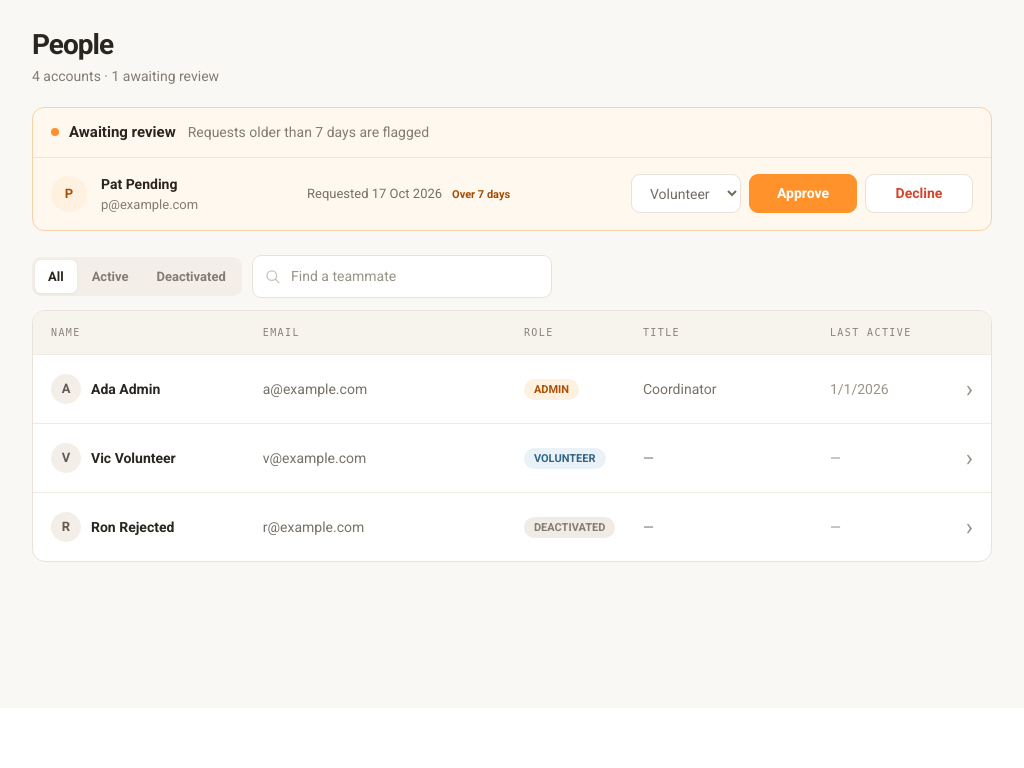
it: filters Deactivated accounts
Click the button "Deactivated": (191, 277) [144,260,239,293]
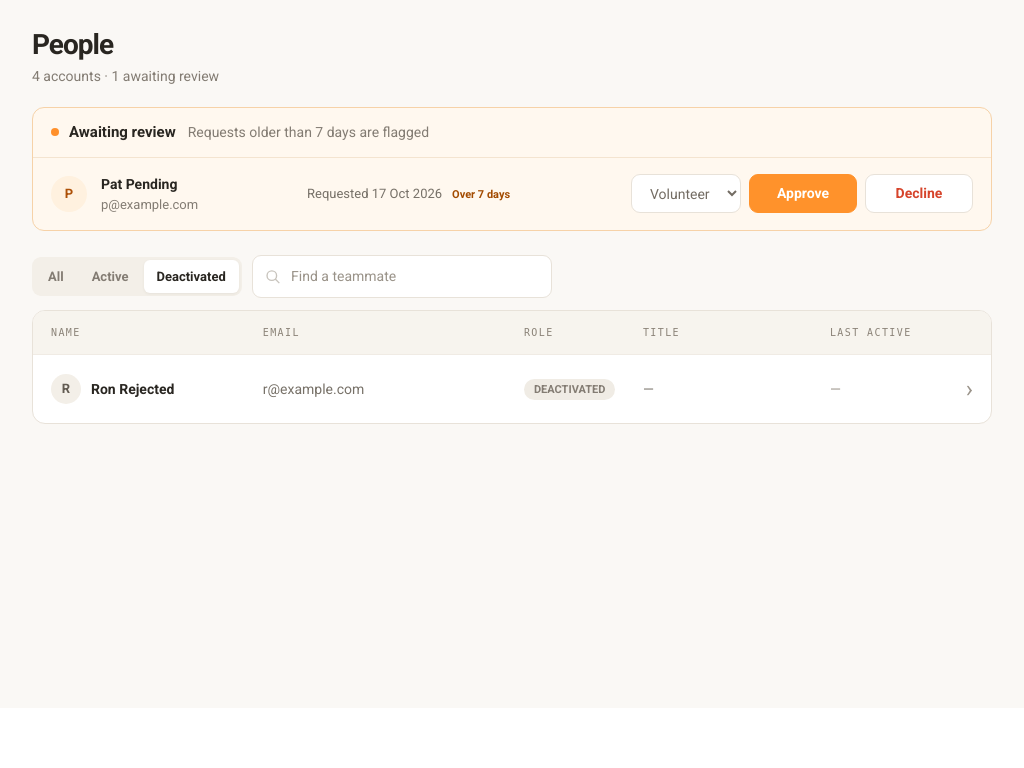
expect the number of buttons with class "card-wrapper" is 1: met, box [33,354,991,423]
